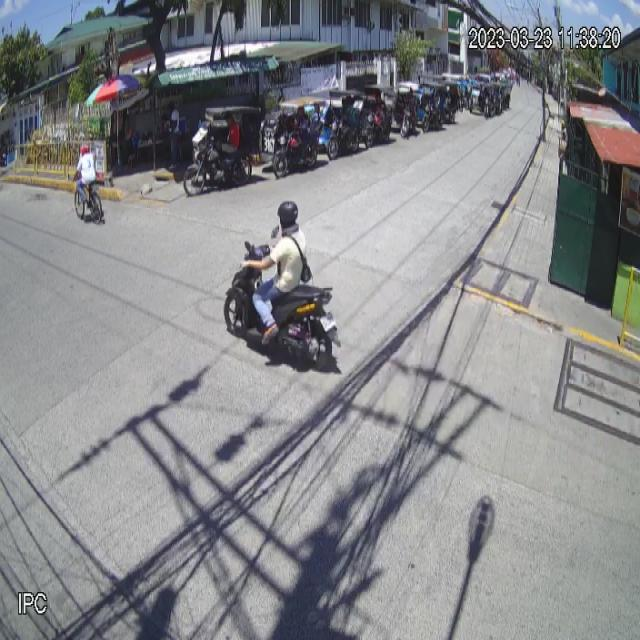Motorcycle: (224, 241, 342, 368)
